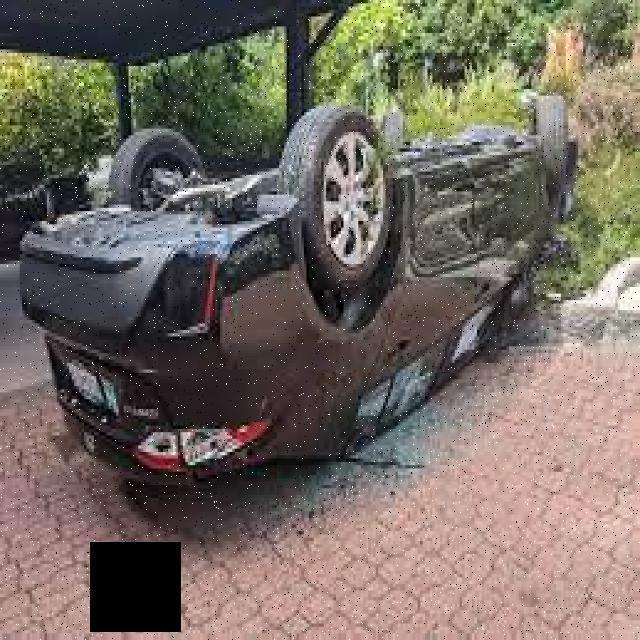accident: (18, 81, 569, 504)
